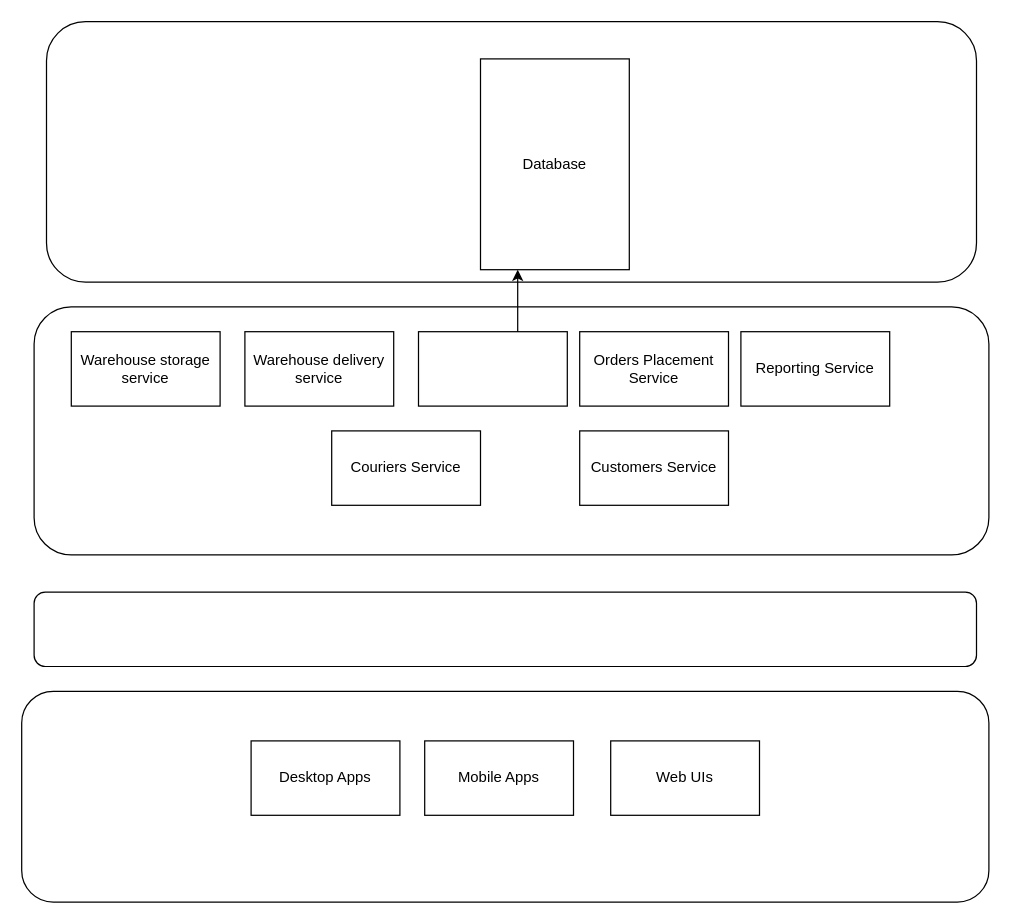
Some shapes in this 1011 by 924 pixel diagram are drawn without their labels. The box of each missing label's shape, as (x1, y1, x2, y2) in pixels:
API Gateway (Authorization): (33, 591, 976, 666)
Order Processing Service: (417, 330, 567, 406)
